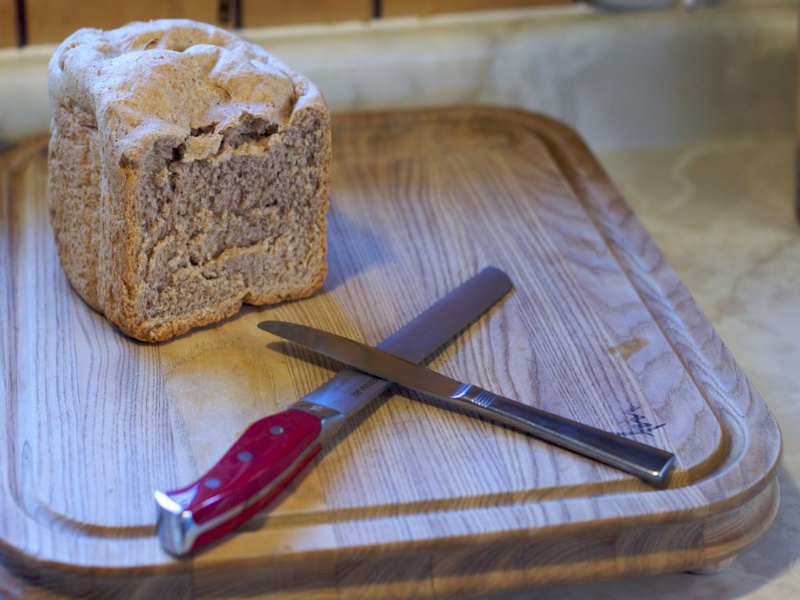knife: (155, 263, 514, 559), (251, 316, 681, 492)
